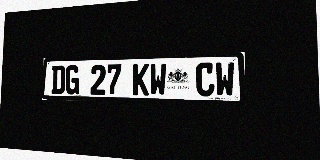2: (90, 64, 106, 95)
7: (106, 64, 121, 95)
C: (196, 62, 214, 96)
D: (51, 65, 65, 94)
G: (65, 65, 80, 94)
K: (132, 64, 149, 95)
W: (215, 62, 235, 97), (149, 63, 166, 96)
